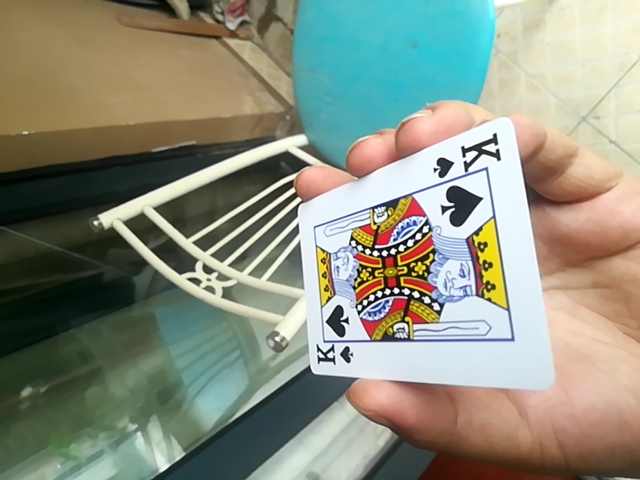ht k: (287, 116, 544, 388)
